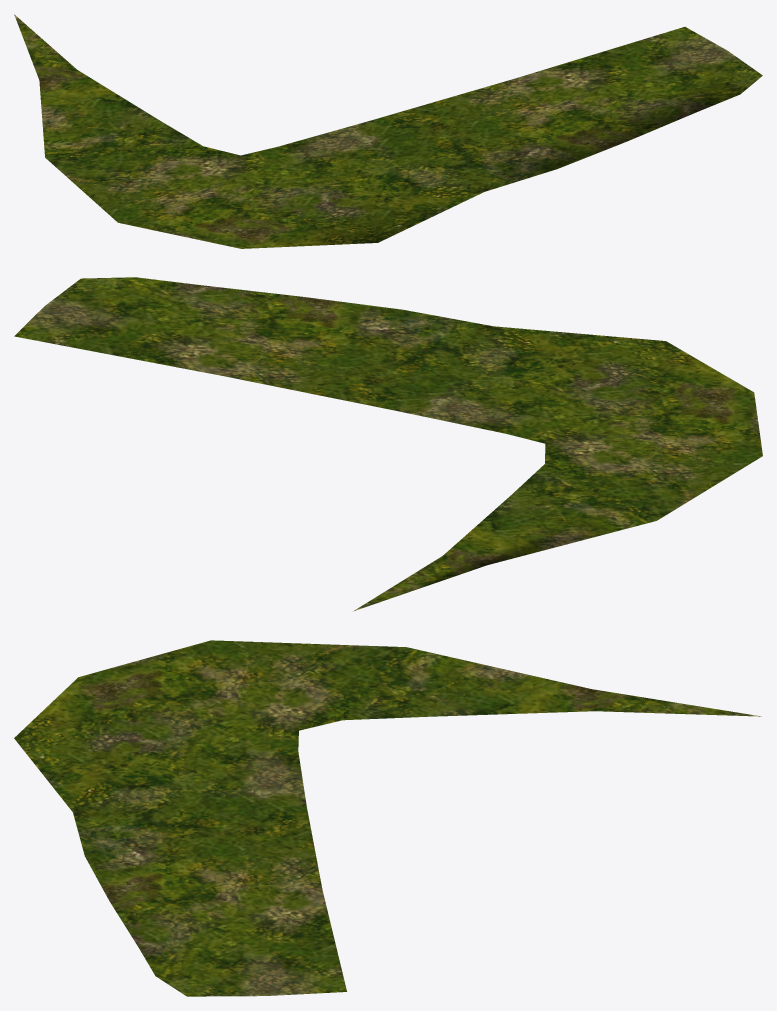
The model's file is OVERHILL_A_01_LINE168.fbx.
3 views of the same model, one above another, from view 1: azimuth 30°, elevation 25°; view 2: azimuth 150°, elevation 25°; view 3: azimuth 270°, elevation 25° (orthographic). The views are drawn at different scales.
Visible parts, largest first — view 1: OVERHILL_A_01_LINE168; view 2: OVERHILL_A_01_LINE168; view 3: OVERHILL_A_01_LINE168.
Part boxes in pixels (x1,y1,x2,y2): OVERHILL_A_01_LINE168: [14, 14, 762, 248]; OVERHILL_A_01_LINE168: [14, 277, 762, 611]; OVERHILL_A_01_LINE168: [14, 640, 761, 996].
Size of the model in its own units: 52736 by 0.0474 by 46857.
1 material, 1 textured.
